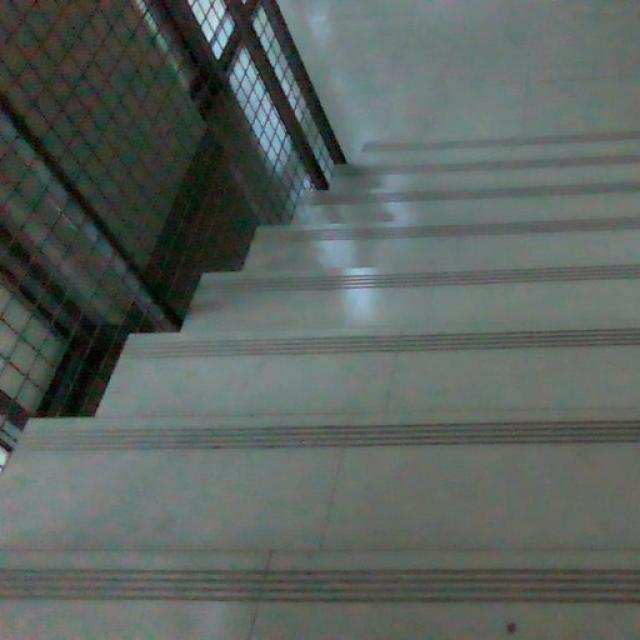stair: (21, 123, 640, 628)
